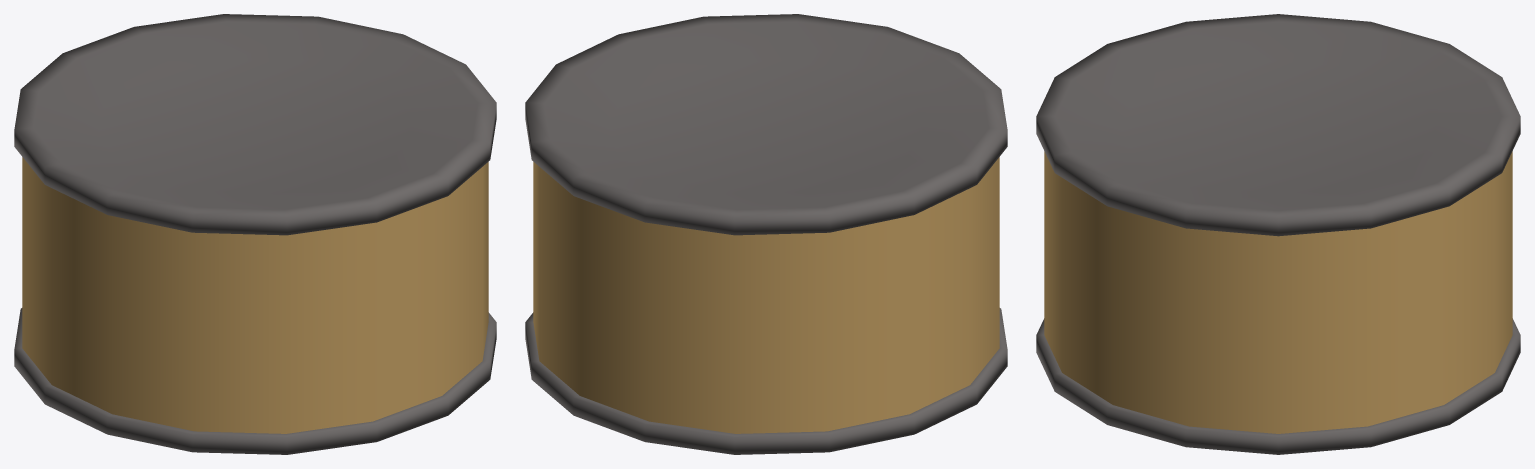
Rendered from Can_00.fbx.
3 renders of one model, left to right at view 1: azimuth 30°, elevation 25°; view 2: azimuth 150°, elevation 25°; view 3: azimuth 270°, elevation 25°, orthographic.
Parts seen in each view (by area): view 1: Can_00; view 2: Can_00; view 3: Can_00.
Boxes of the visible parts, bbox=[...] form: Can_00: bbox=[14, 14, 496, 454]; Can_00: bbox=[525, 14, 1007, 454]; Can_00: bbox=[1036, 14, 1520, 454].
Size of the model in its own units: 26 by 14 by 26.
